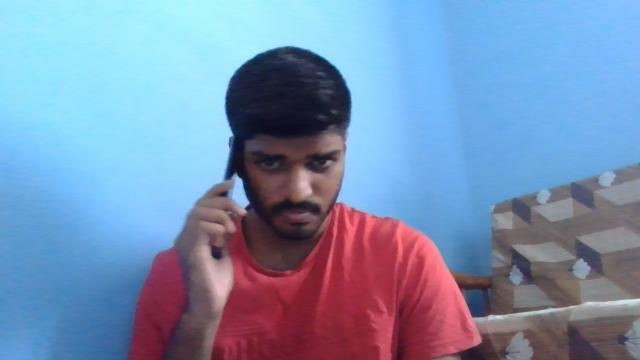PhoneUse: (210, 140, 238, 260)
SafeDriving: (302, 143, 343, 173), (248, 148, 294, 174)
